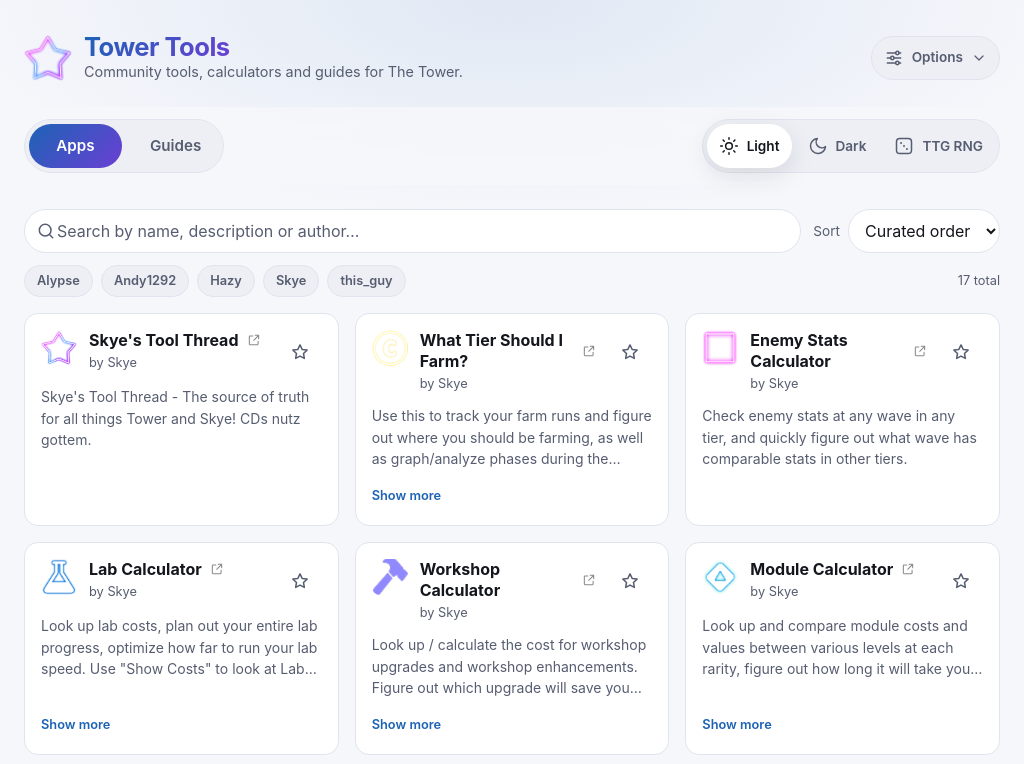
options panel › collapses and expands the theme, search and filter controls
Click the button "Options" at [935, 58], box [871,36,1000,80]
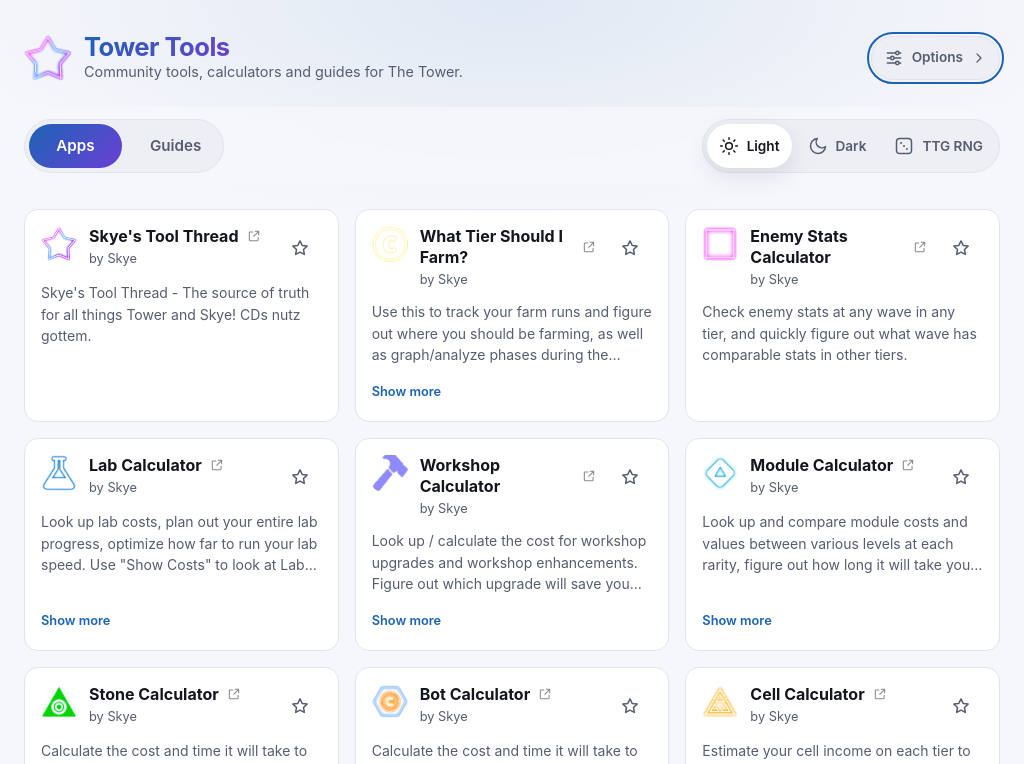
Now the button "Options" is collapsed
Click the button "Options" at [935, 58], box [871,36,1000,80]
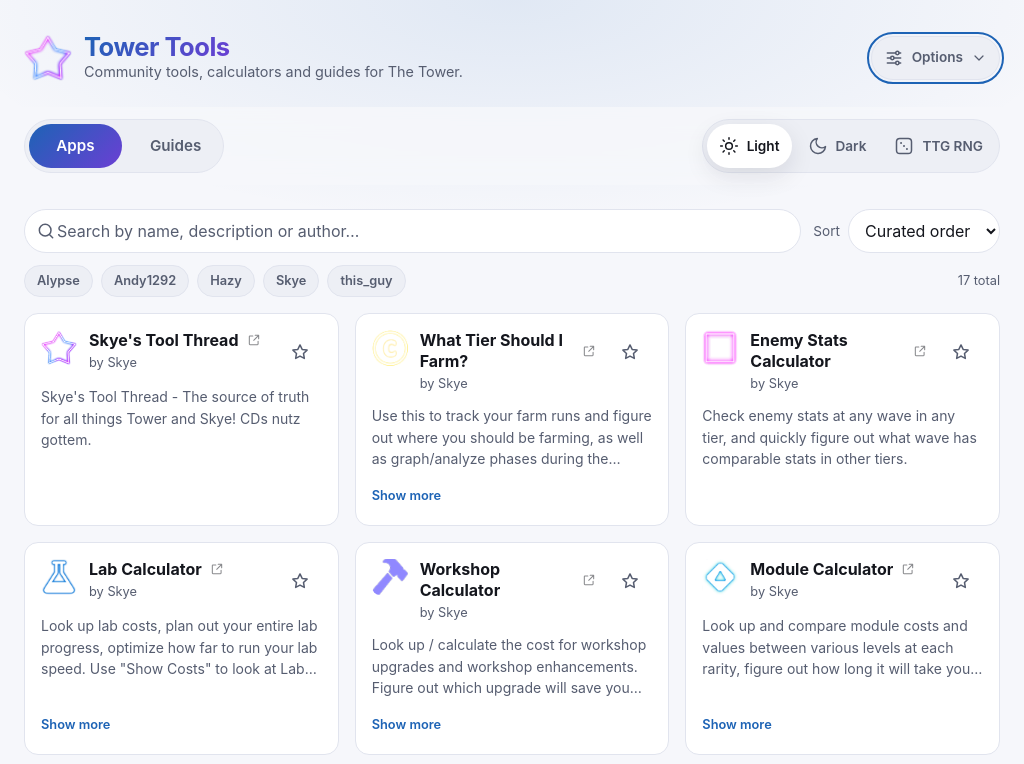
Now the button "Options" is expanded, box [871,36,1000,80]
